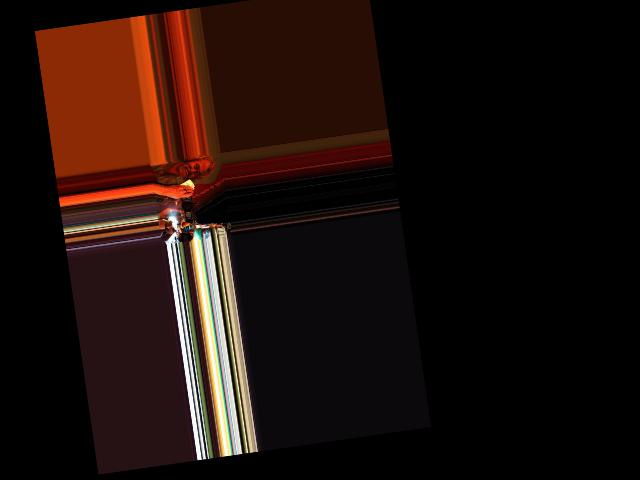beer: (180, 185, 195, 224)
